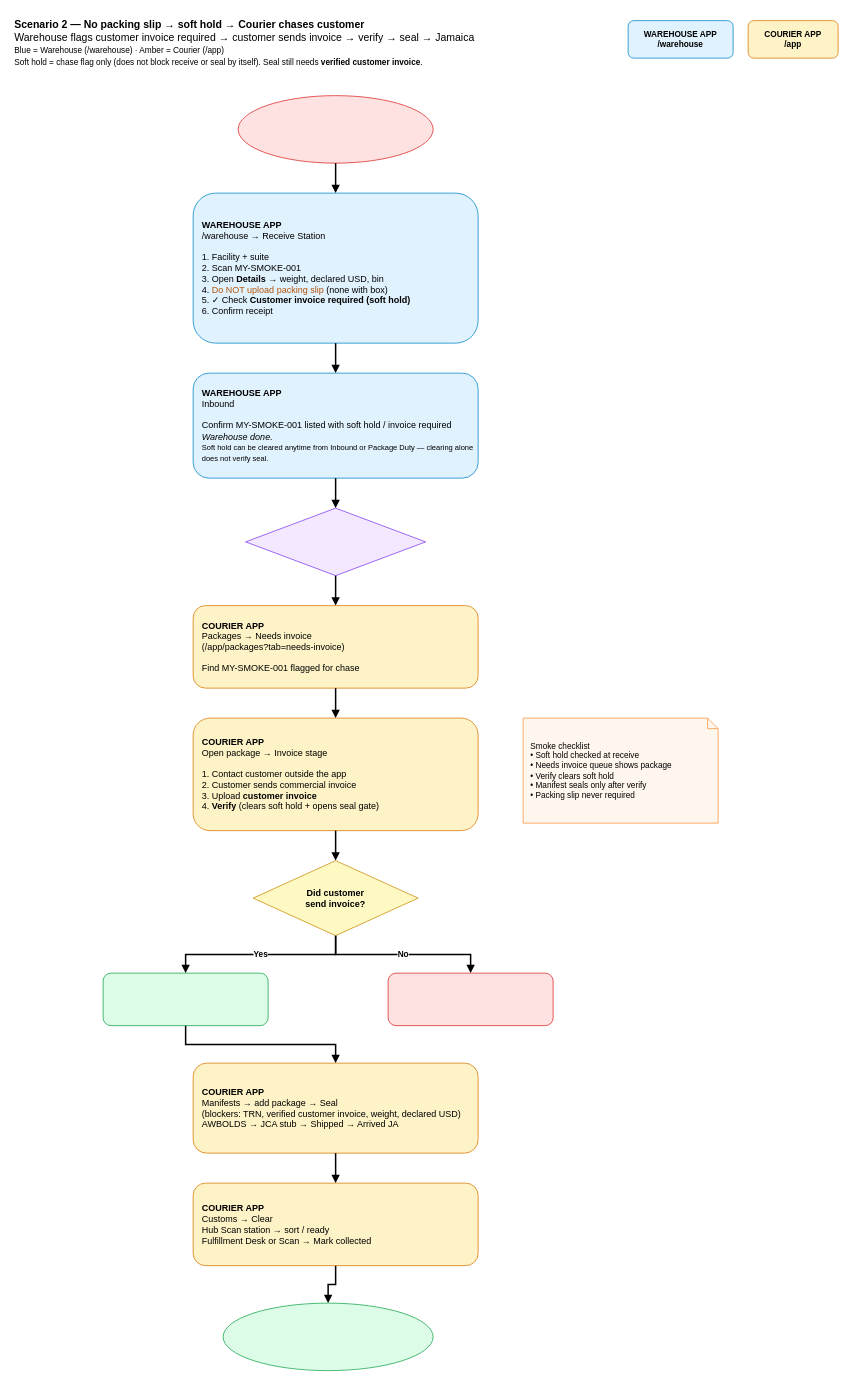
Image size: 851x1384. Some labels were removed from this diagram. Here are the shapes that lost their labels. From the top down, the centre of each, then its label:
At point (335, 129): "START Package arrives — NO packing slip Tracking: MY-SMOKE-001".
At point (335, 541): "HANDOFF → Courier login".
At point (185, 999): "Yes → continue this scenario (verified customer invoice)".
At point (470, 999): "No → switch to Scenario 3 (Mark could not obtain)".
At point (327, 1336): "DONE Soft hold chase → verified invoice → Sealed → Cleared → Collected".
